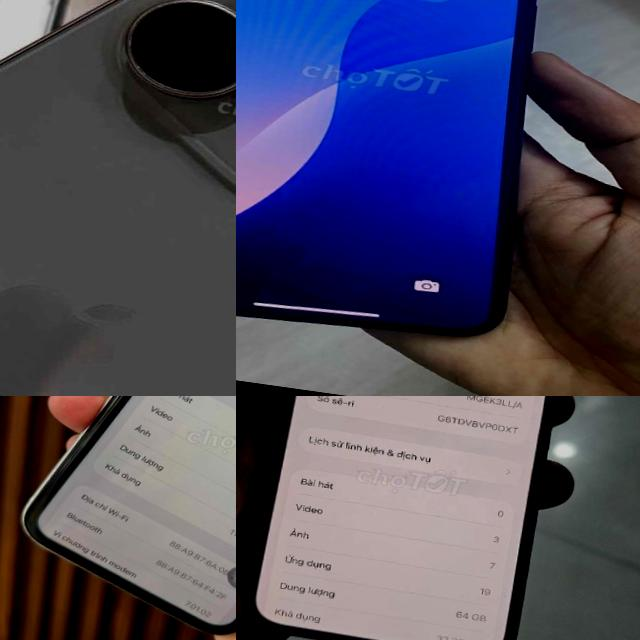gen_11: (236, 0, 573, 362), (22, 396, 236, 634)
gen_12_13: (236, 396, 581, 640)
gen_15: (0, 0, 236, 396)
